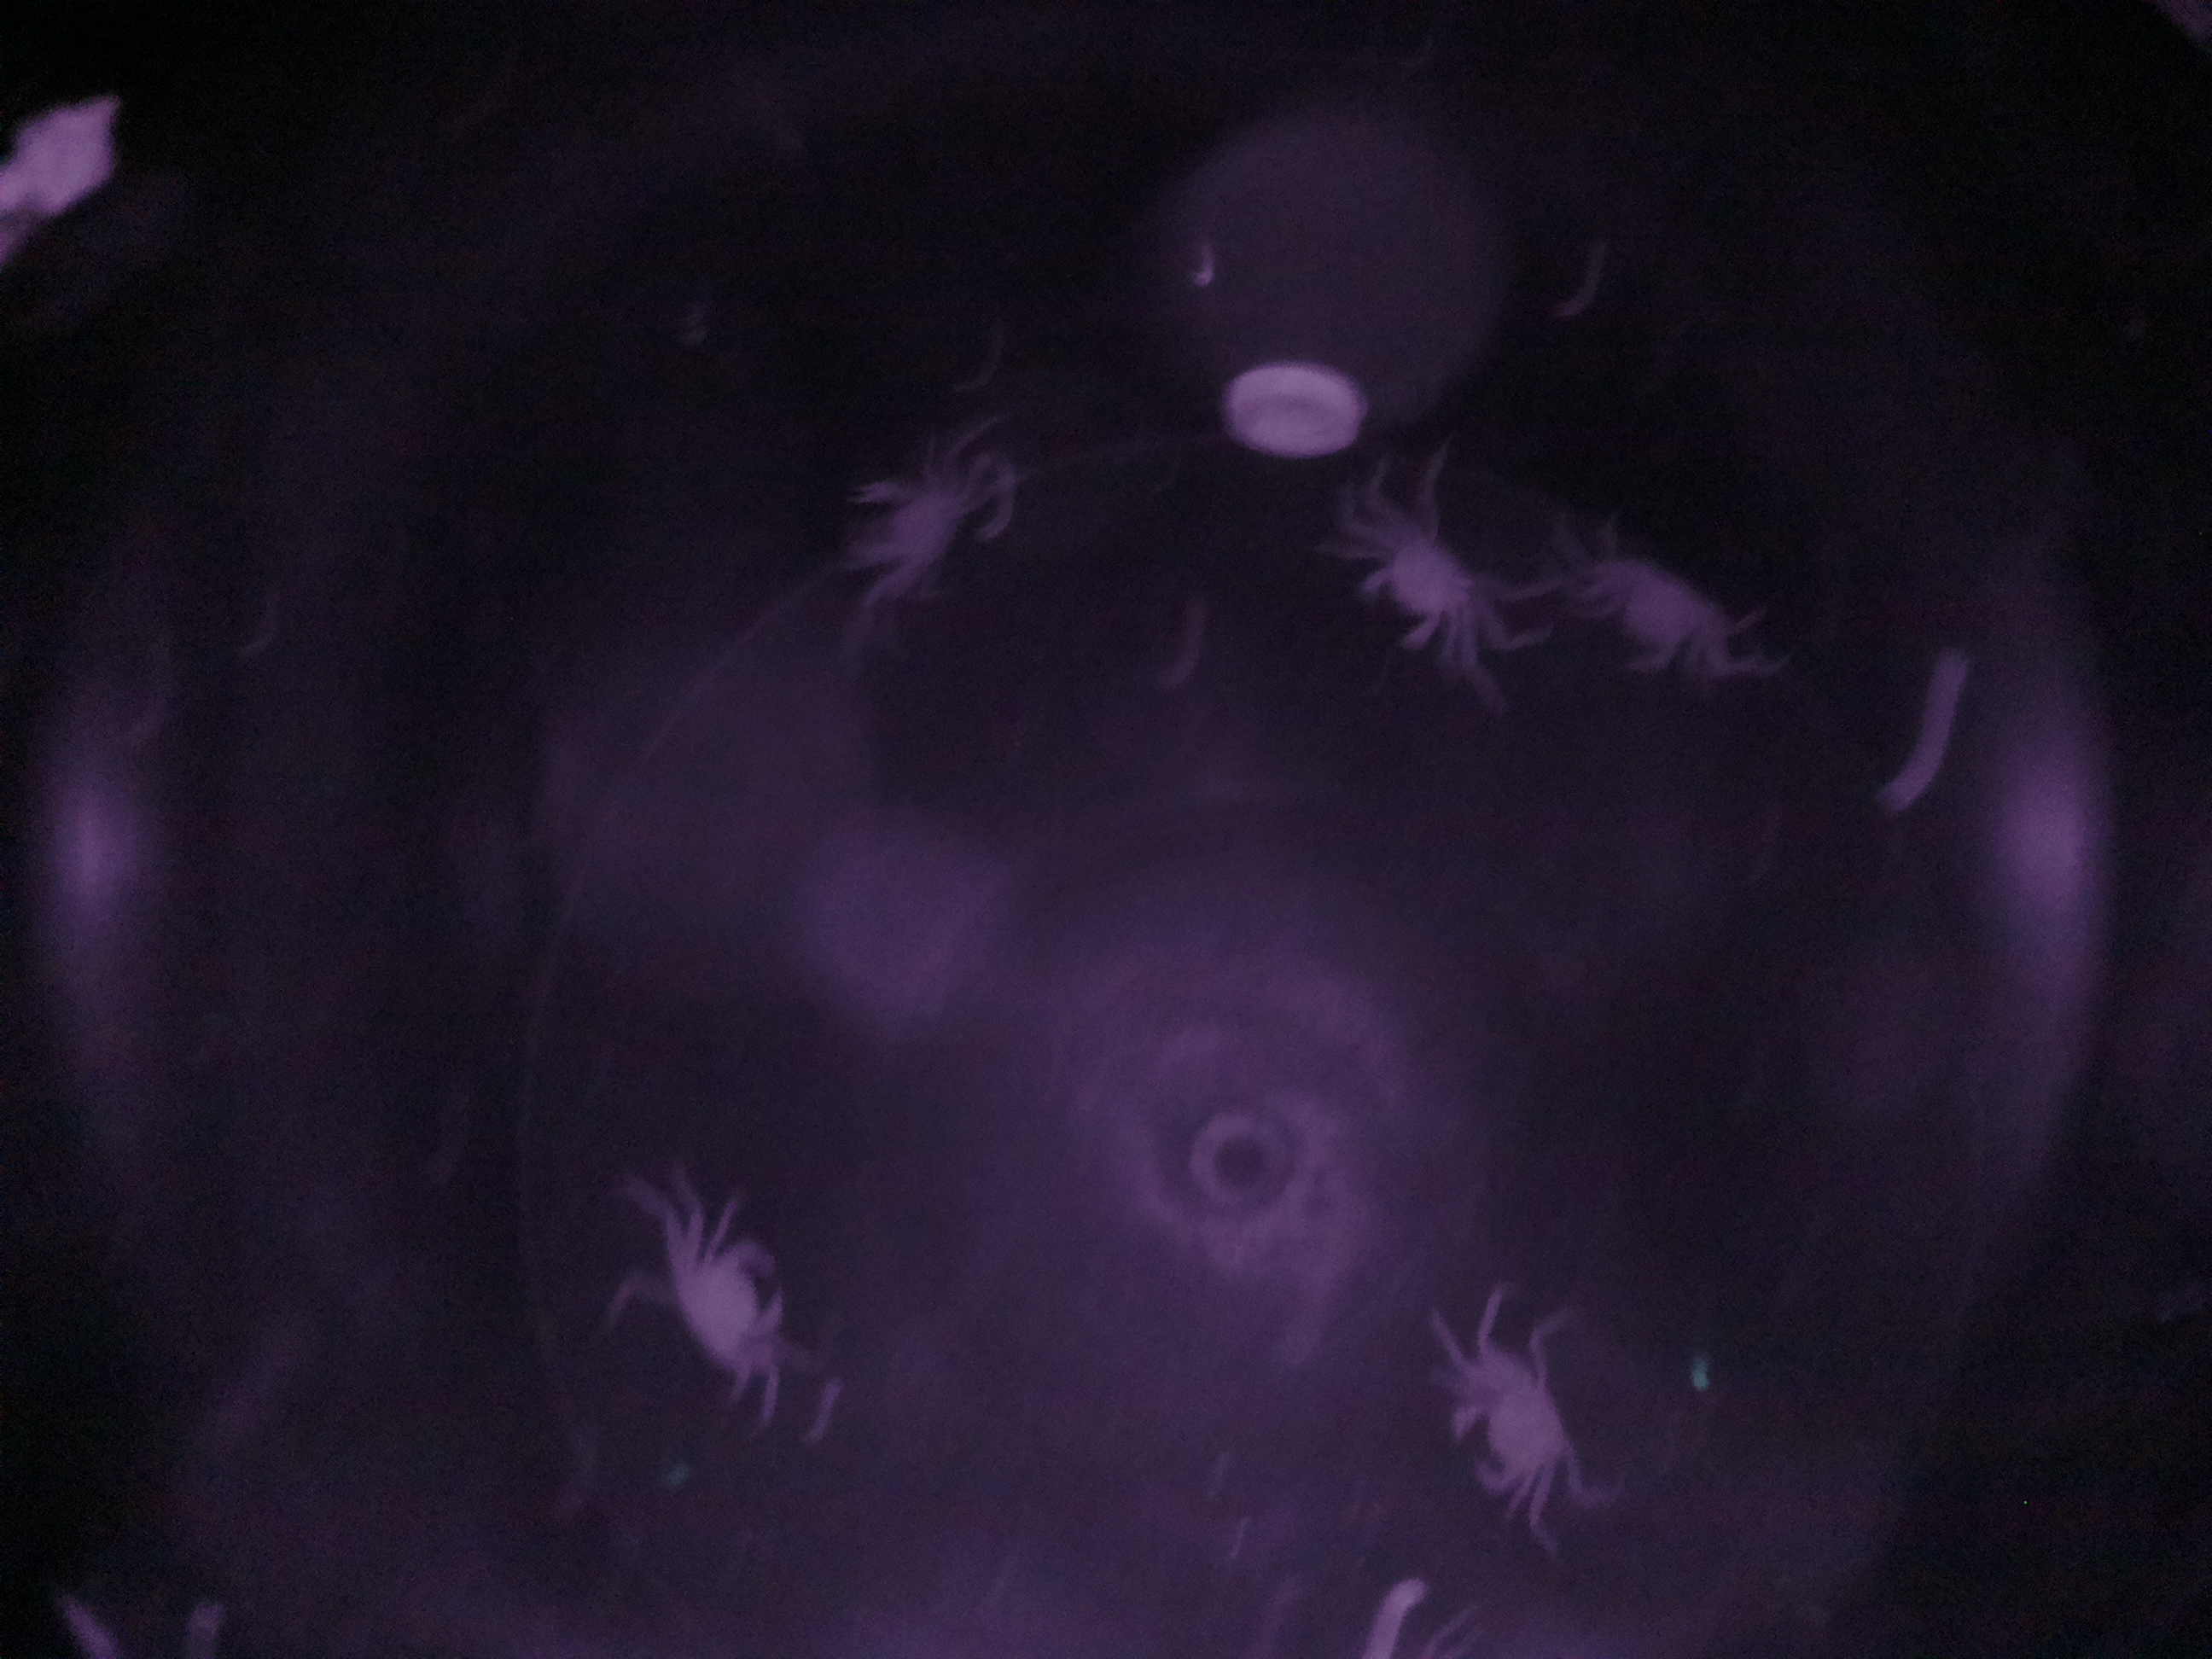Crab: (1435, 1338, 1588, 1528)
